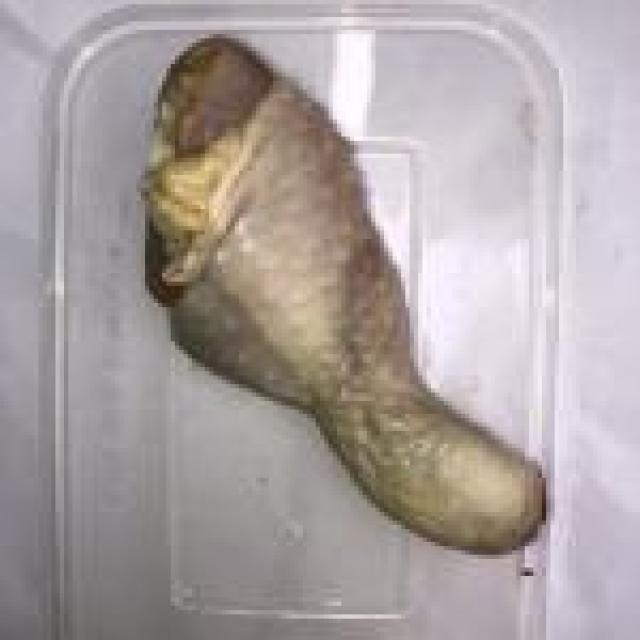leg: (124, 24, 552, 542)
